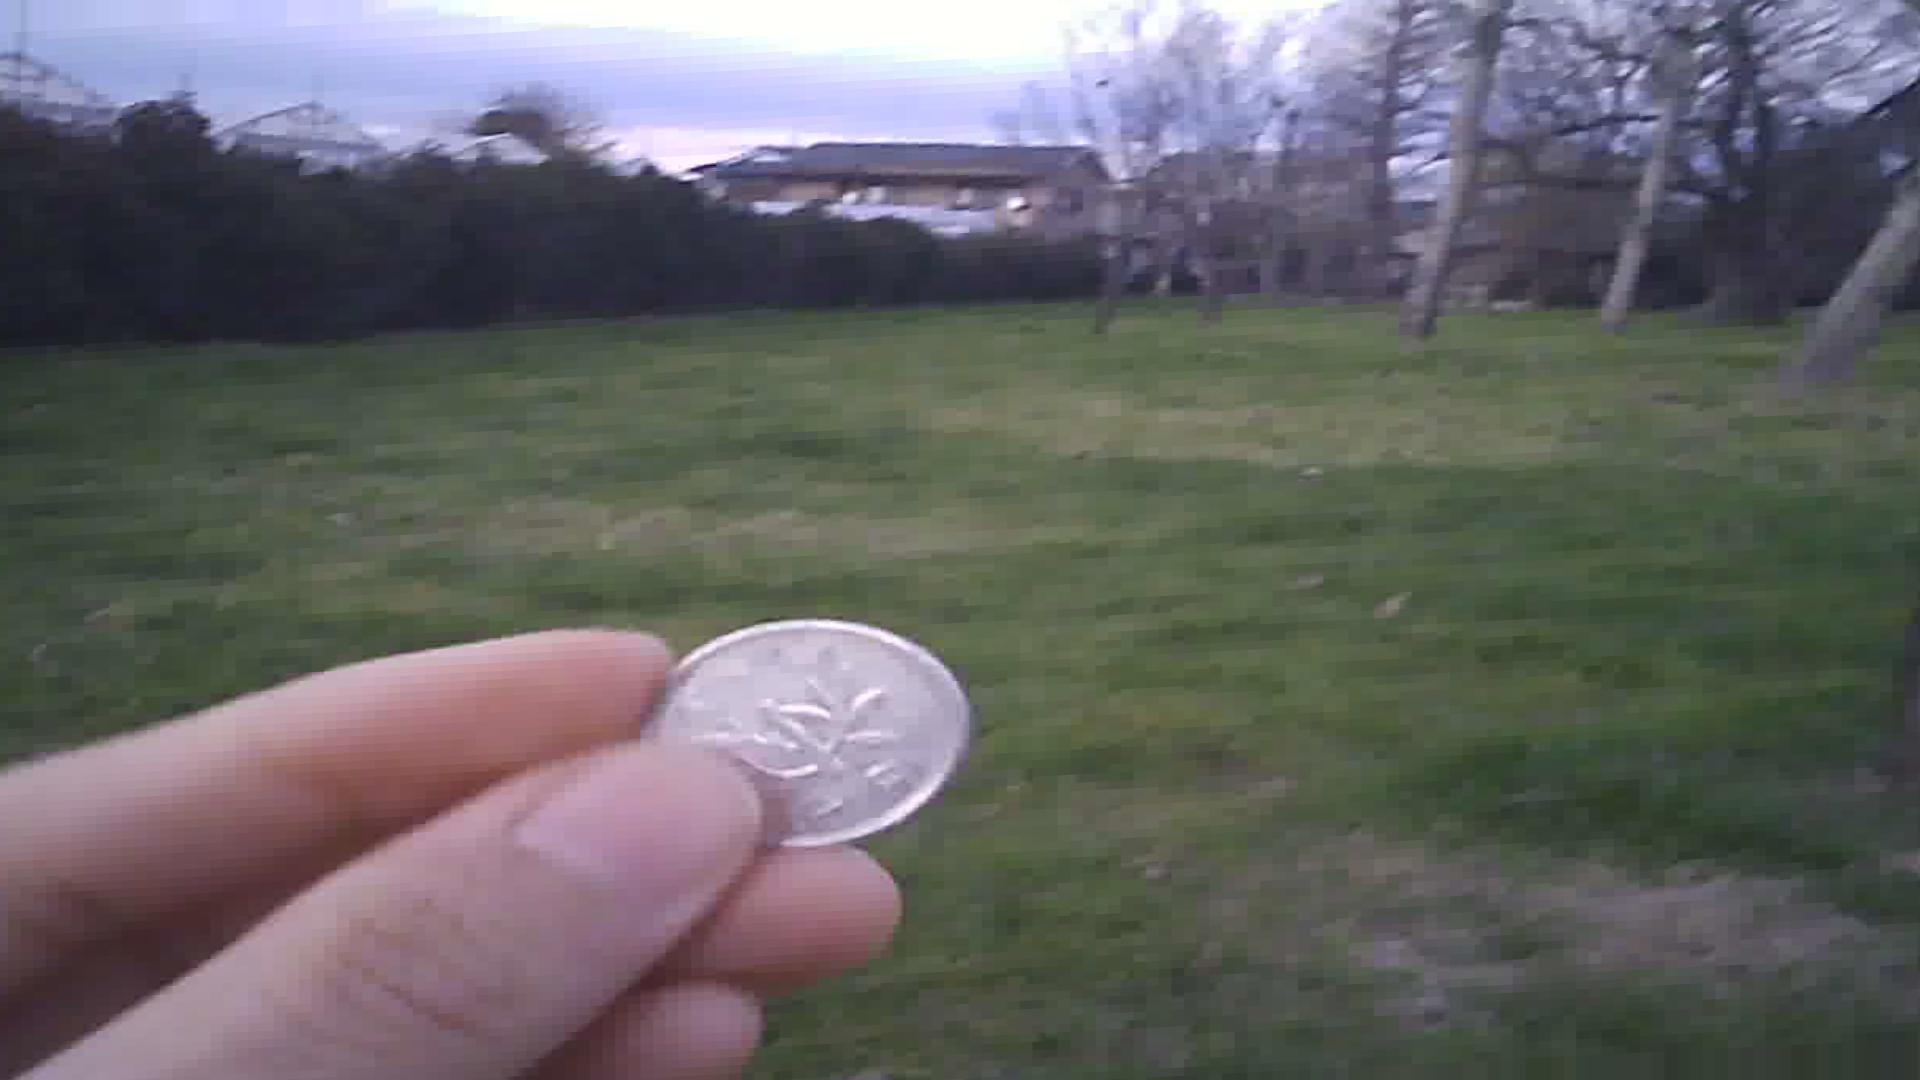1 Yen: (634, 624, 961, 851)
